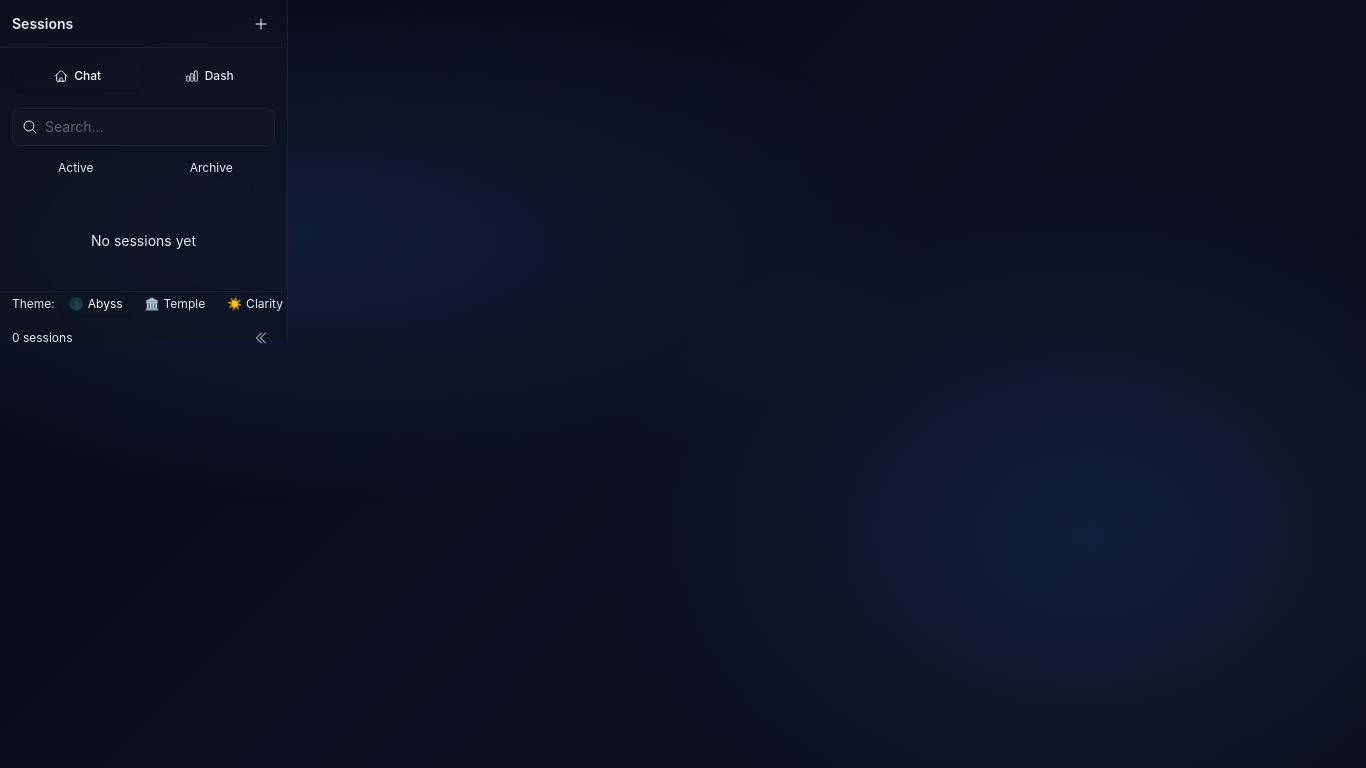
Test: Sidebar › session list › shows status indicator for archived session
The width and height of the screenshot is (1366, 768).
What coordinates should you click on to do the following:
click the button "Archive"
I would click on:
 (211, 168)
Its box is top-left (148, 154), bottom-right (275, 182).
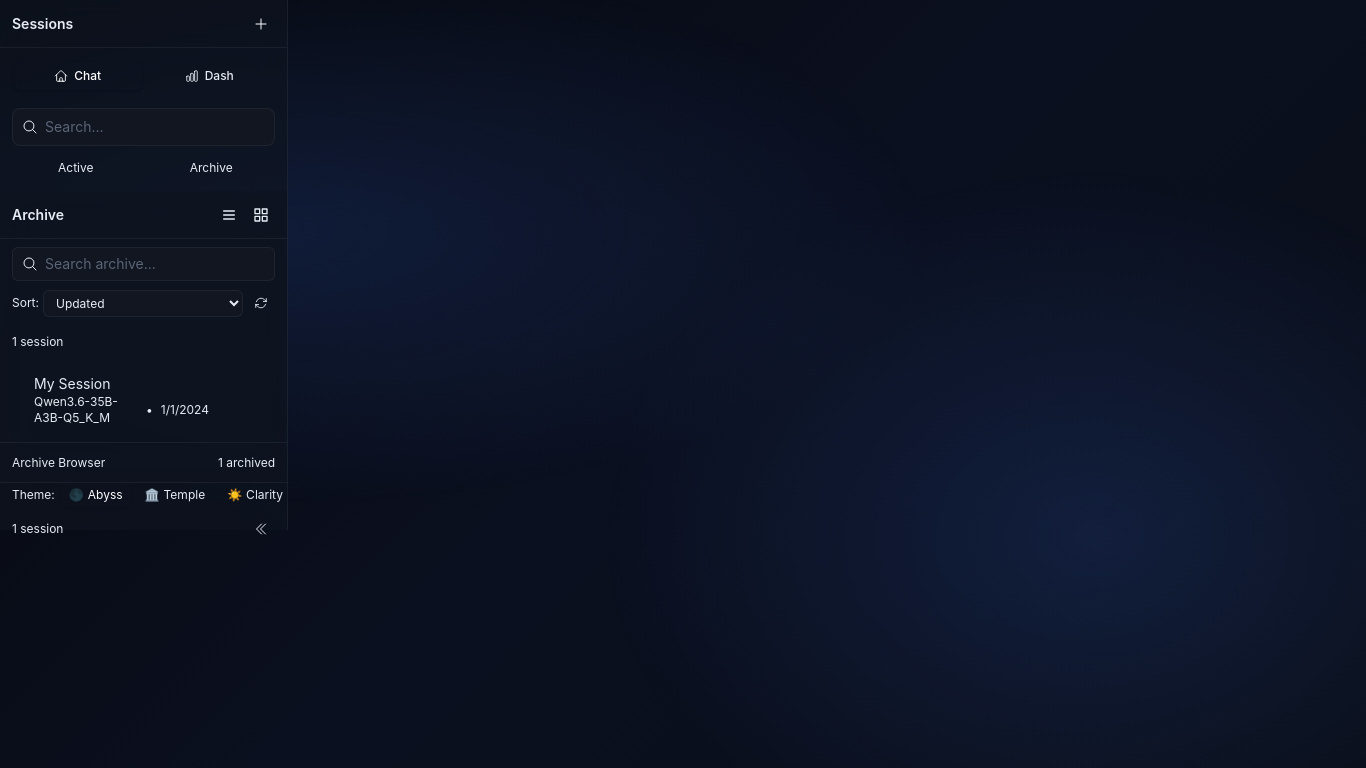
Check: the text "My Session" is shown, box top-left (34, 375), bottom-right (110, 392)
